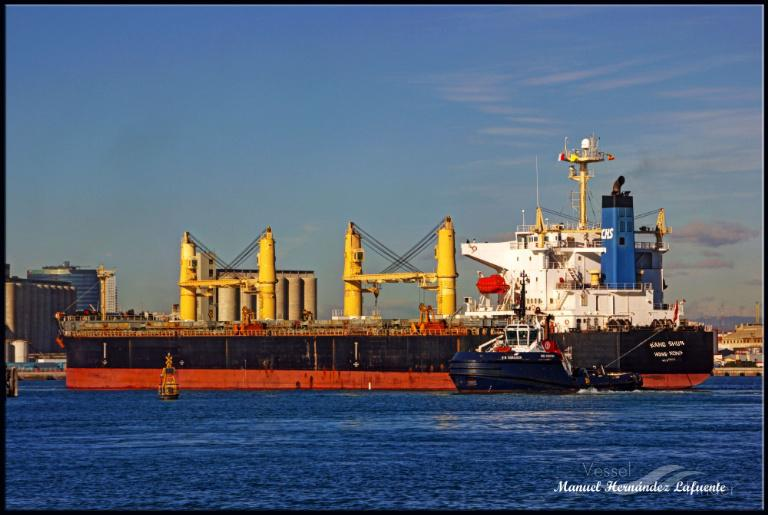OCR: (645, 341, 686, 369)
